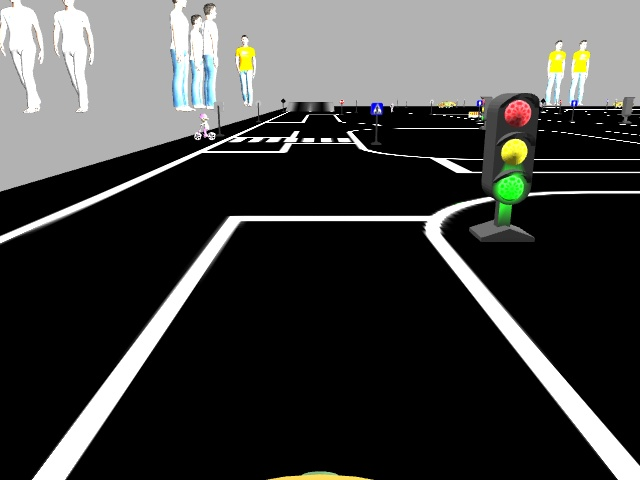Crosswalk: (371, 103, 382, 115)
Pedestrian: (193, 113, 215, 140)
TrafficLight: (481, 95, 537, 203)
